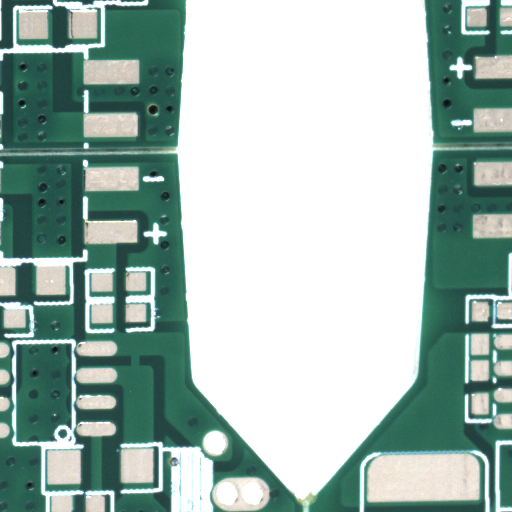Short: (135, 360, 154, 379)
